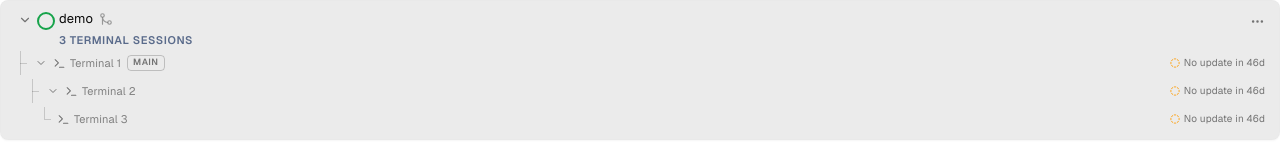
Test: WorktreeCard subagent nesting box (issue #359) › collapsing depth 1 hides depths 2 and 3
Click the button named "Hide 1 child agent" next to "Terminal 1": (41, 63) [33,55,49,71]
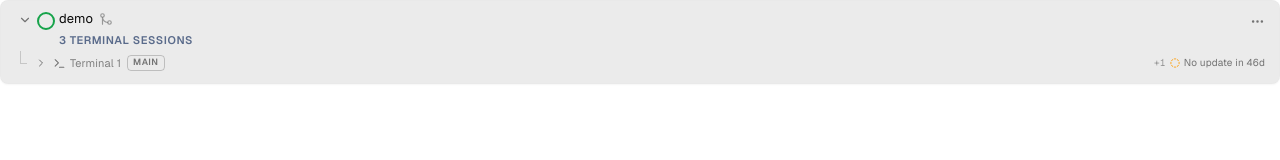
Now the list item "Terminal 1 MAIN +1 No update in 46d" is collapsed, box [29,51,1269,75]
